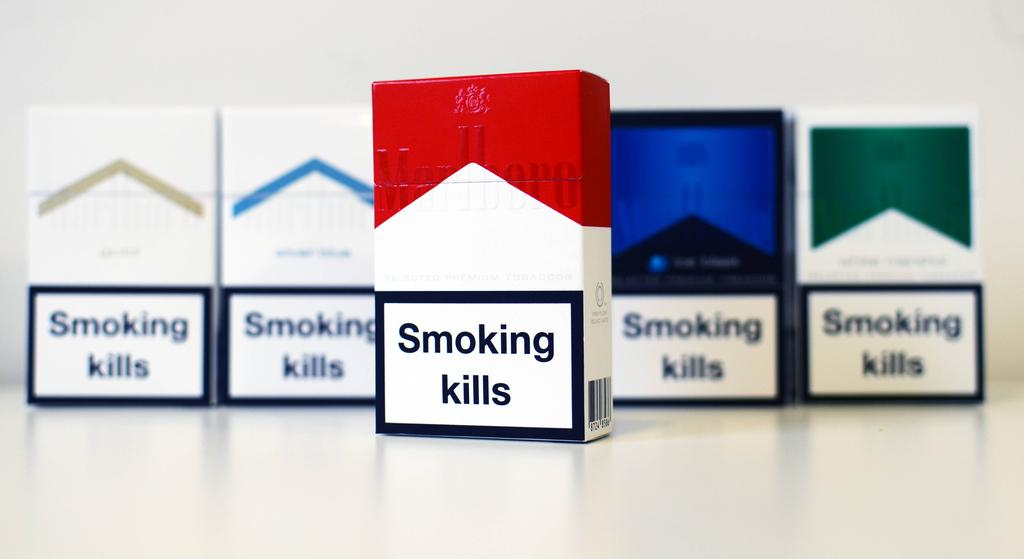marlboro_gold: (27, 109, 208, 406)
marlboro_mentol: (796, 113, 979, 401)
marlboro_red: (377, 80, 574, 435)
